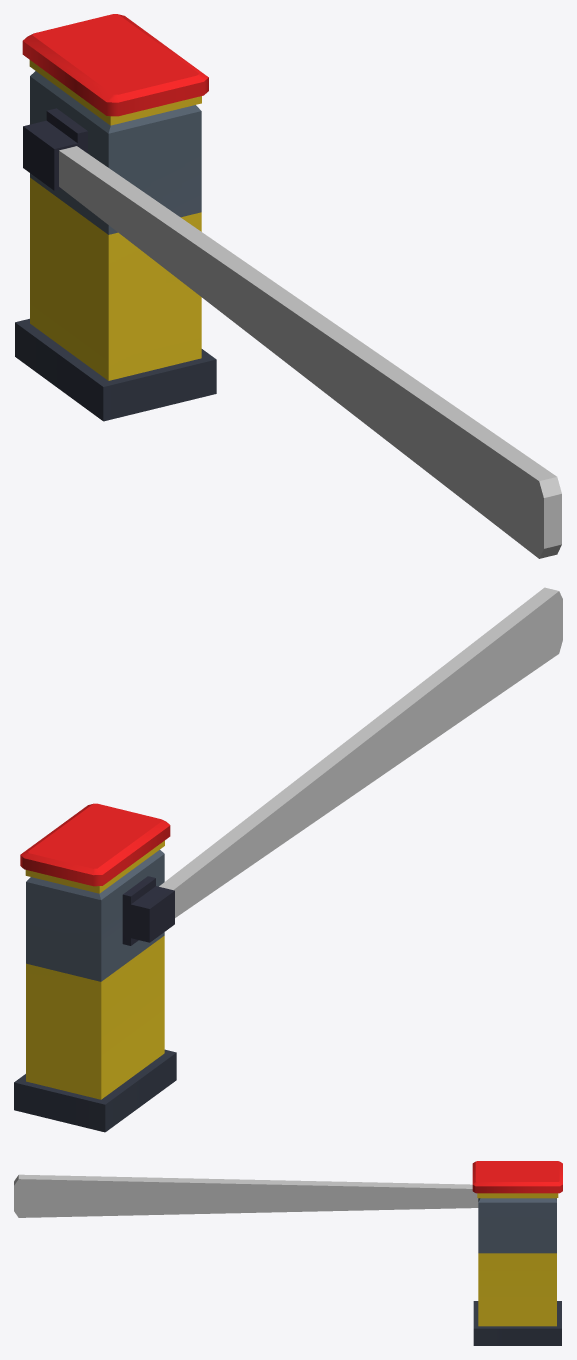
File: RoadStop_1_A.fbx
3 renders of one model, top to bottom at view 1: azimuth 30°, elevation 25°; view 2: azimuth 150°, elevation 25°; view 3: azimuth 270°, elevation 25°, orthographic. The views are drawn at different scales.
Visible parts, largest first — view 1: RoadStop_1_A, RoadStop_1; view 2: RoadStop_1_A, RoadStop_1; view 3: RoadStop_1, RoadStop_1_A.
Boxes of the visible parts, box(x1,y1,x2,y2) form: RoadStop_1_A: box(15, 14, 216, 421); RoadStop_1: box(23, 108, 561, 558); RoadStop_1_A: box(14, 803, 176, 1132); RoadStop_1: box(122, 587, 562, 945); RoadStop_1: box(14, 1174, 478, 1217); RoadStop_1_A: box(472, 1161, 562, 1345).
Bounding box in the file's own units: 52.31 × 117 × 364.
